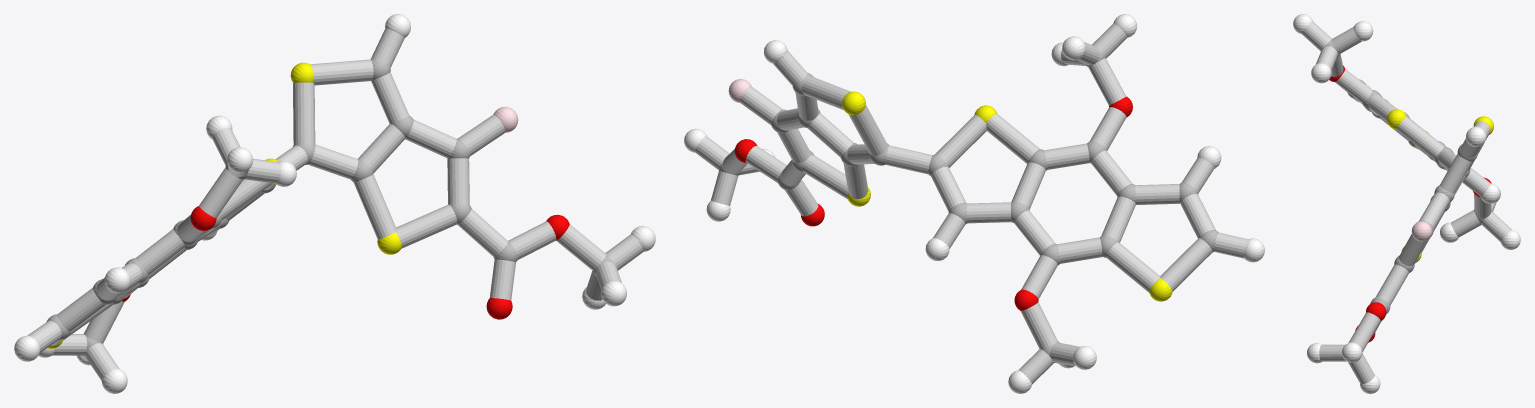
File: Dimethoxy_Benzodithiophene_Phi_25_Theta_100_Methylcarbonyl_3_Fluoro_Thienothiophene.glb
3 renders of one model, left to right at view 1: azimuth 30°, elevation 25°; view 2: azimuth 150°, elevation 25°; view 3: azimuth 270°, elevation 25°, orthographic. The views are drawn at different scales.
Visible parts, largest first — view 1: grp15205, grp8689, grp1, grp13395, grp7241; view 2: grp15205, grp8689, grp1, grp7241, grp13395; view 3: grp15205, grp8689, grp1, grp7241, grp13395, grp14843.
Boxes of the visible parts, box(x1,y1,x2,y2) form: grp15205: box(27, 28, 643, 380); grp8689: box(14, 14, 655, 393); grp1: box(46, 58, 614, 356); grp13395: box(122, 206, 569, 319); grp7241: box(47, 62, 401, 348); grp15205: box(695, 23, 1248, 384); grp8689: box(684, 14, 1264, 393); grp1: box(719, 50, 1218, 362); grp7241: box(842, 91, 1172, 301); grp13395: box(734, 96, 1132, 310); grp15205: box(1301, 21, 1511, 384); grp8689: box(1293, 14, 1520, 393); grp1: box(1325, 40, 1492, 362); grp7241: box(1387, 109, 1493, 262); grp13395: box(1329, 65, 1491, 342); grp14843: box(1411, 221, 1432, 241).
Size of the model in its own units: 16.76 by 7.8 by 6.67.
